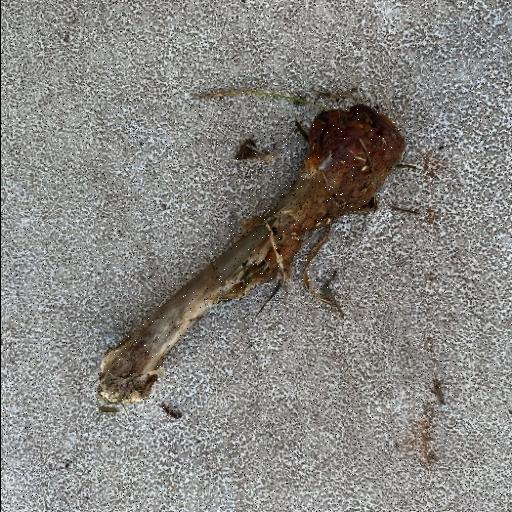Waste: (94, 99, 412, 409)
